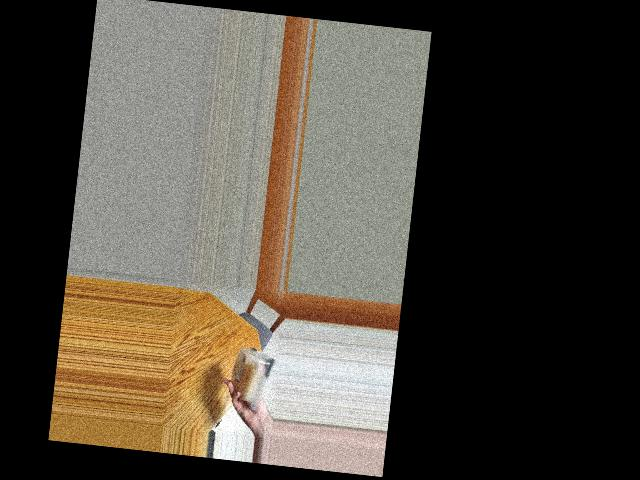cheese: (226, 343, 275, 405)
